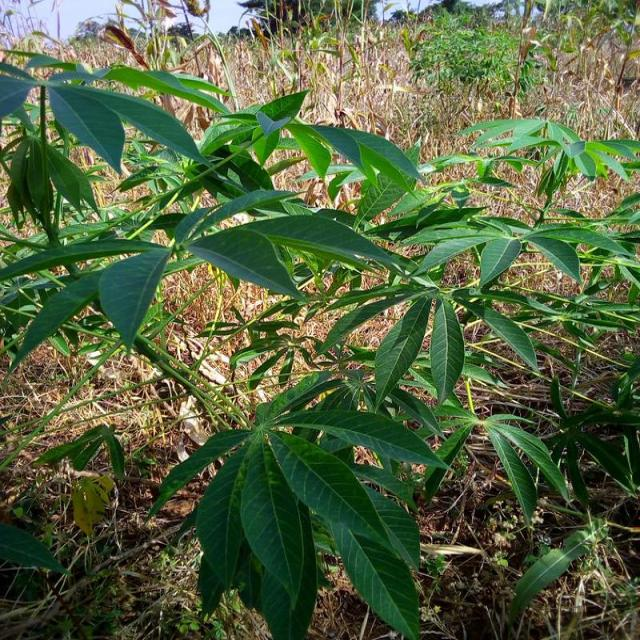cassava leaf: (0, 47, 638, 637), (97, 243, 170, 349)
